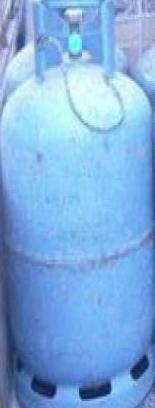cylinder: (1, 0, 155, 408)
